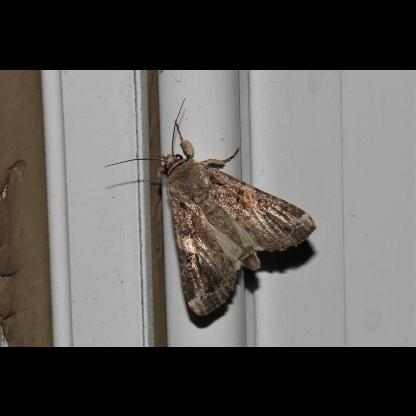Fall Armyworm Moth: (102, 94, 320, 318)
